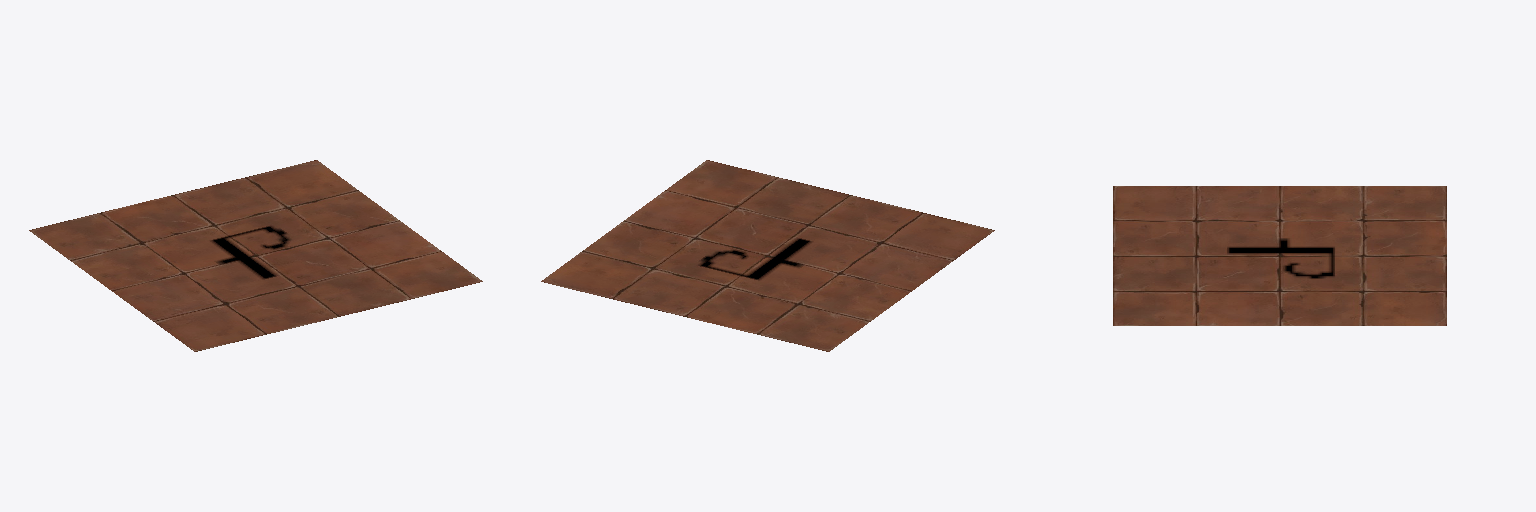
3 renders of one model, left to right at view 1: azimuth 30°, elevation 25°; view 2: azimuth 150°, elevation 25°; view 3: azimuth 270°, elevation 25°, orthographic.
Parts seen in each view (by area): view 1: pPlane1; view 2: pPlane1; view 3: pPlane1.
Part boxes in pixels (x1,y1,x2,y2): pPlane1: (29, 160, 482, 351); pPlane1: (541, 160, 994, 351); pPlane1: (1113, 186, 1446, 325).
Size of the model in its own units: 8 by 0 by 8.
Materials: 1 (1 with a texture image).